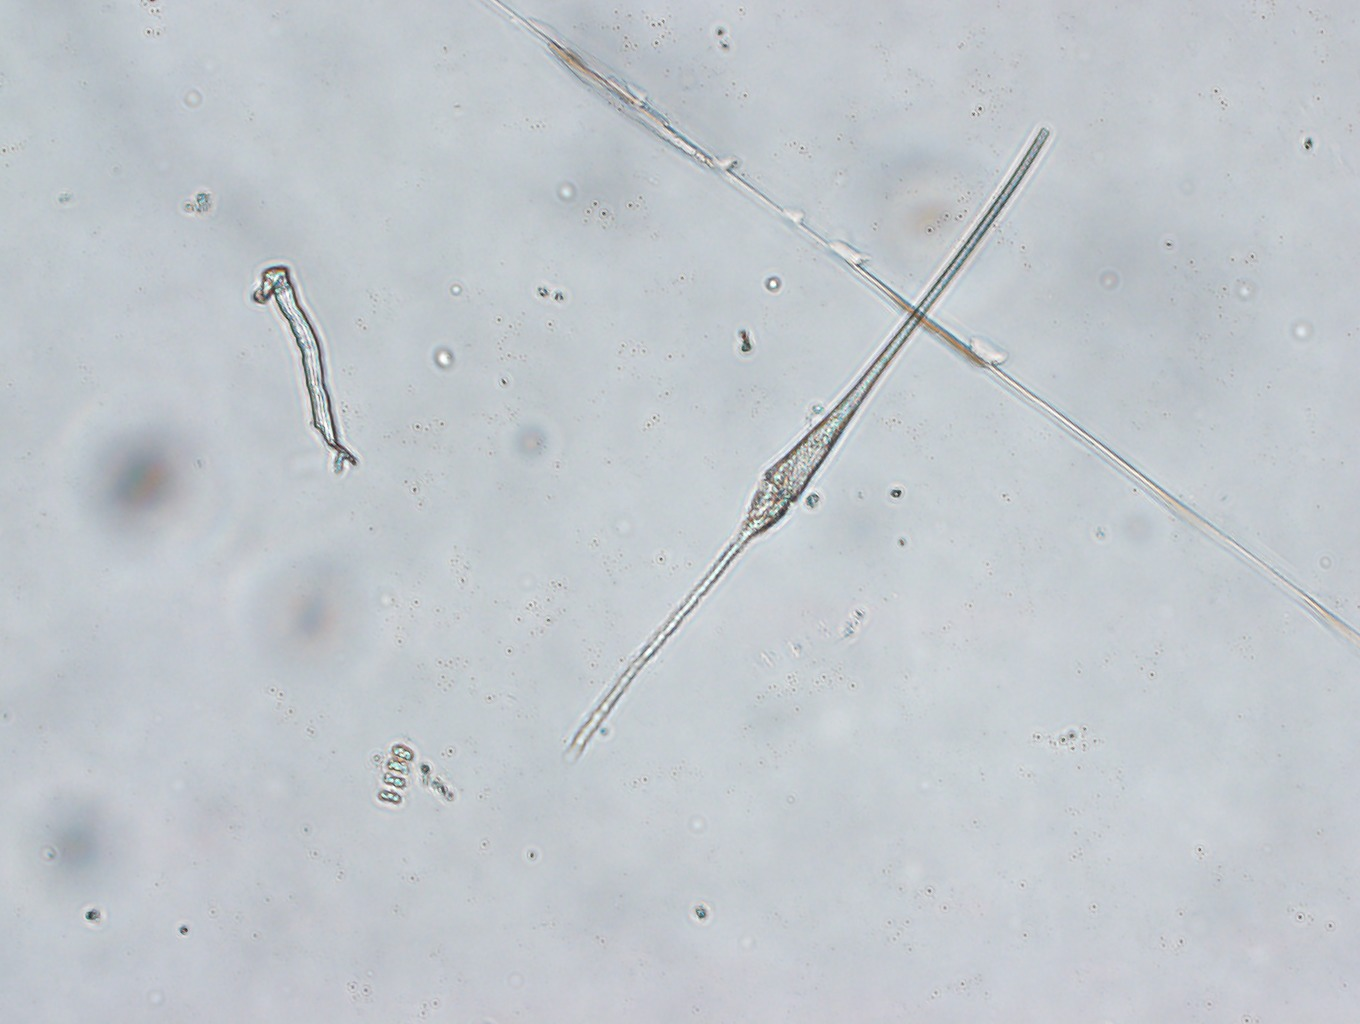ceratium fusus: (560, 122, 1054, 770)
